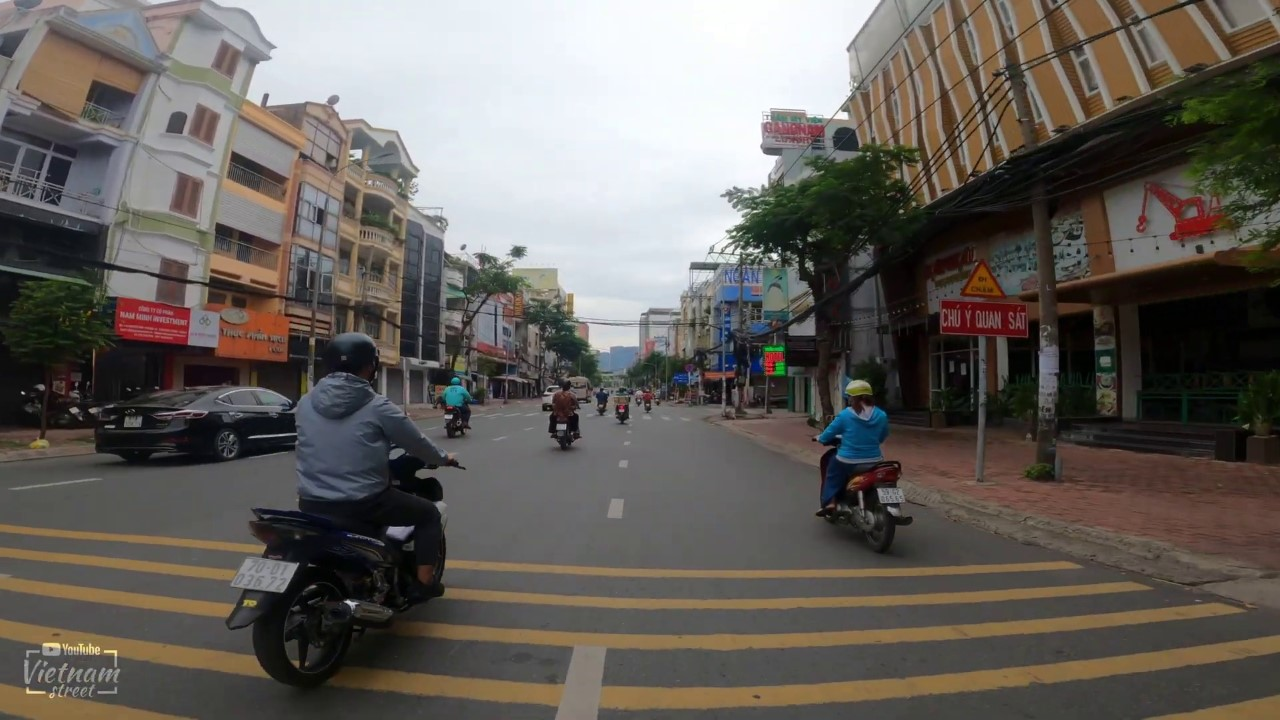di_cham: (960, 257, 1006, 300)
